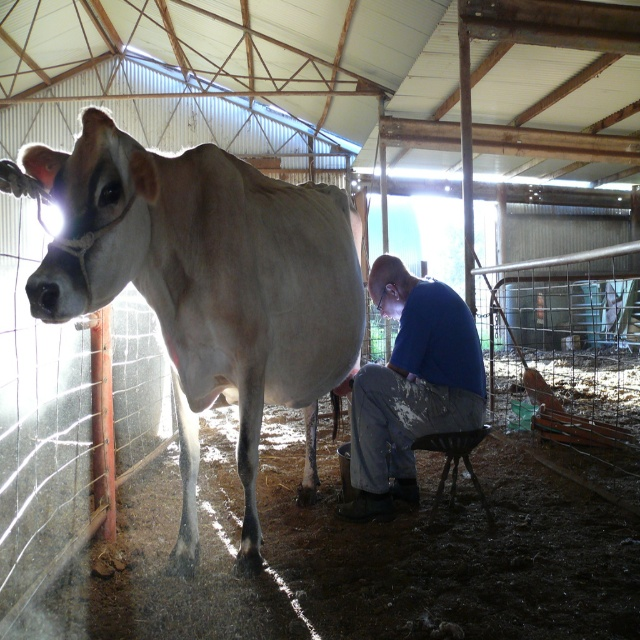Cattle: (16, 107, 367, 584)
